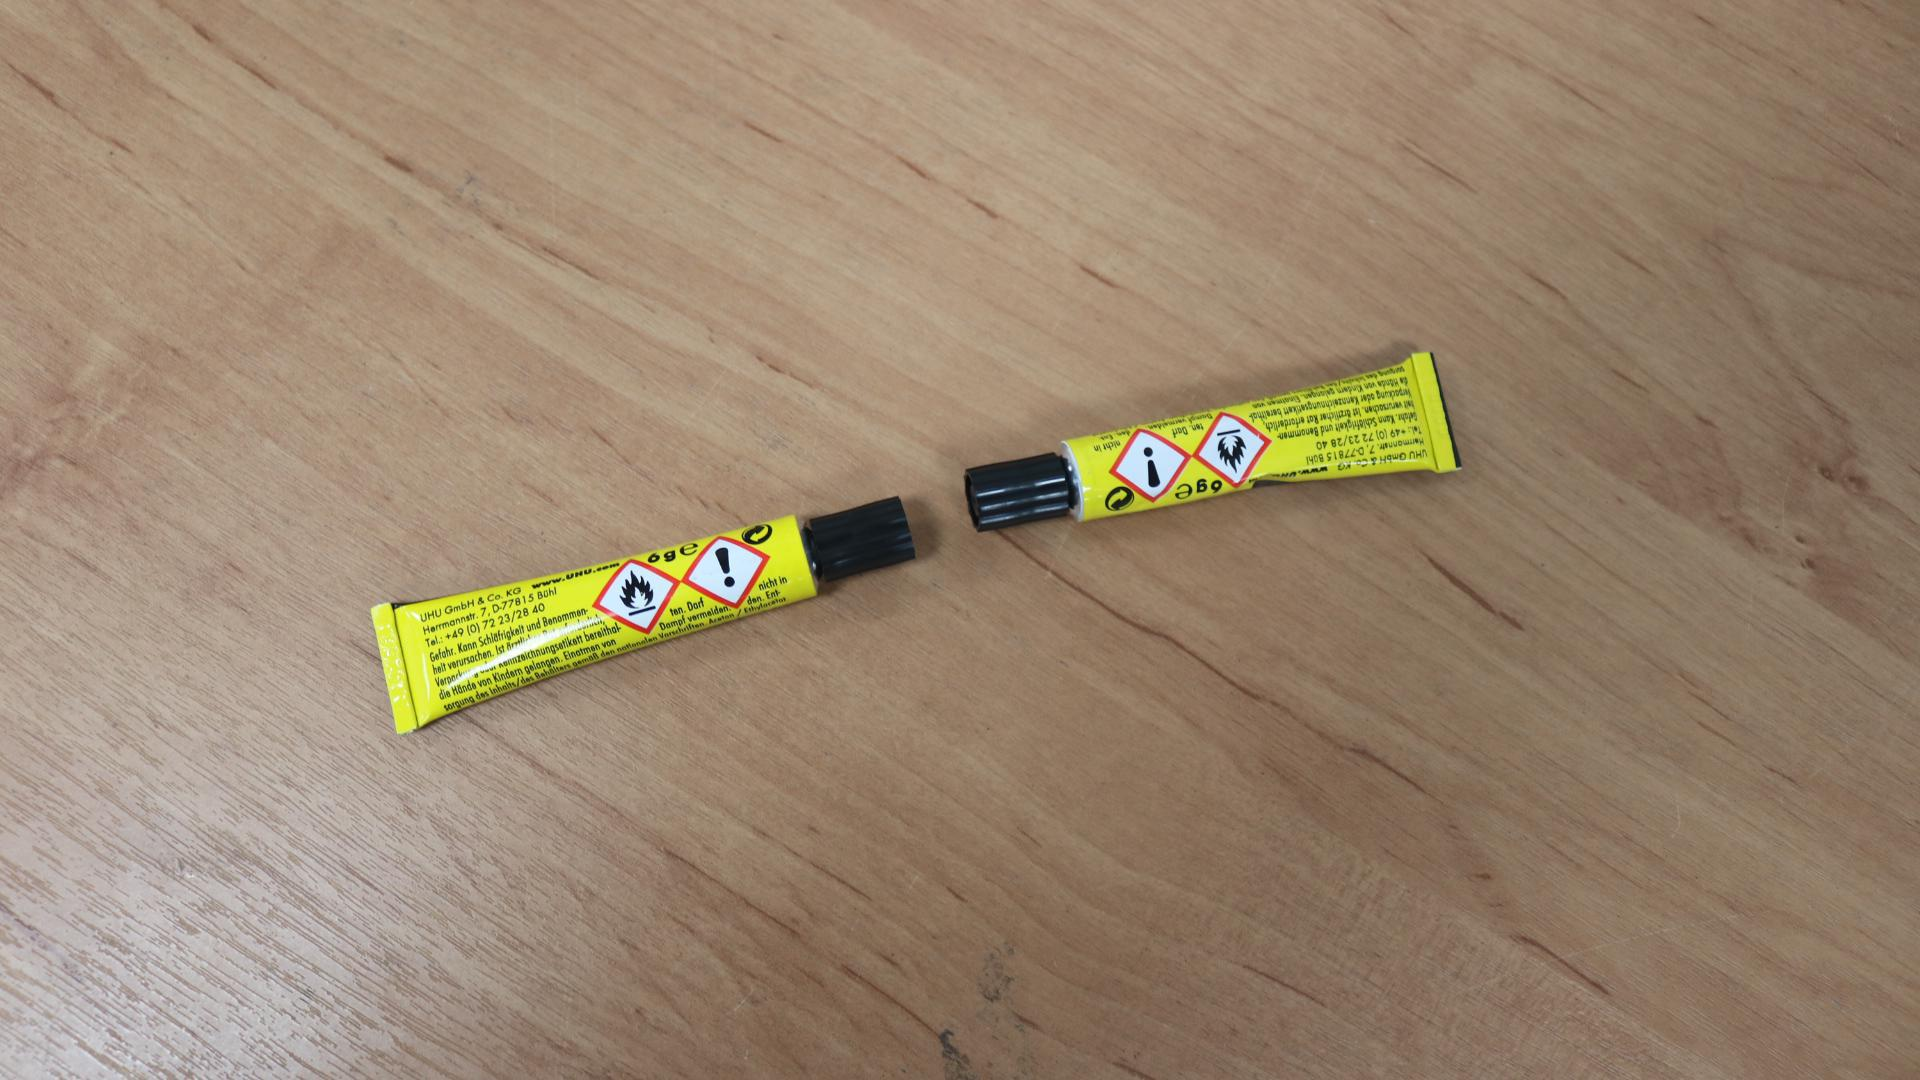Head: (1017, 485, 1021, 489), (859, 532, 863, 536)
Tail: (390, 664, 395, 669), (1431, 403, 1434, 406)
Tube: (373, 490, 922, 734), (963, 350, 1462, 535)
